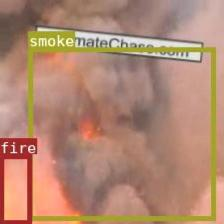fire: (0, 152, 30, 223)
smoke: (28, 47, 215, 219)
